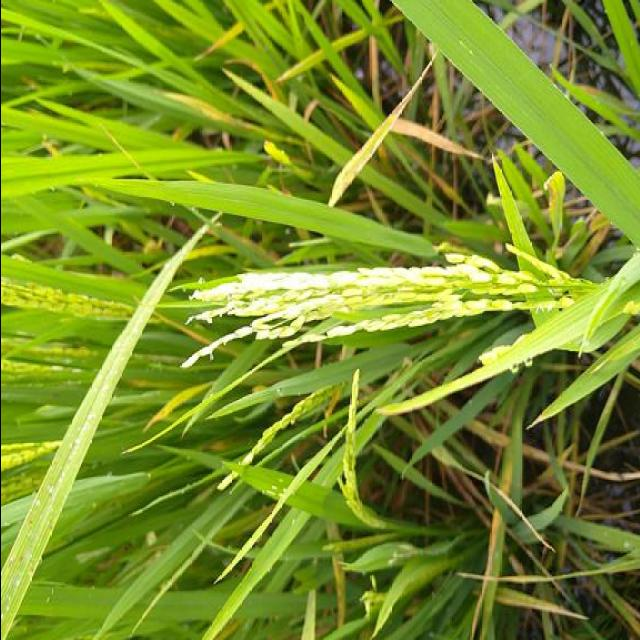Leaf Streak: (0, 222, 209, 640)
